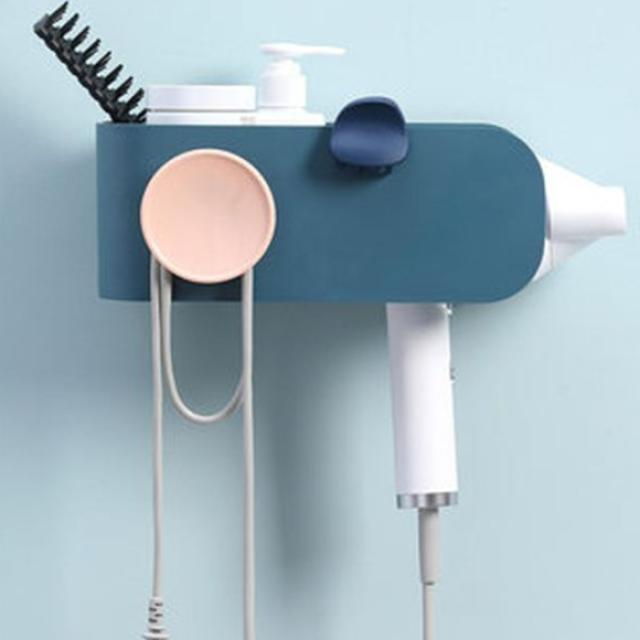dryer: (327, 88, 636, 640)
